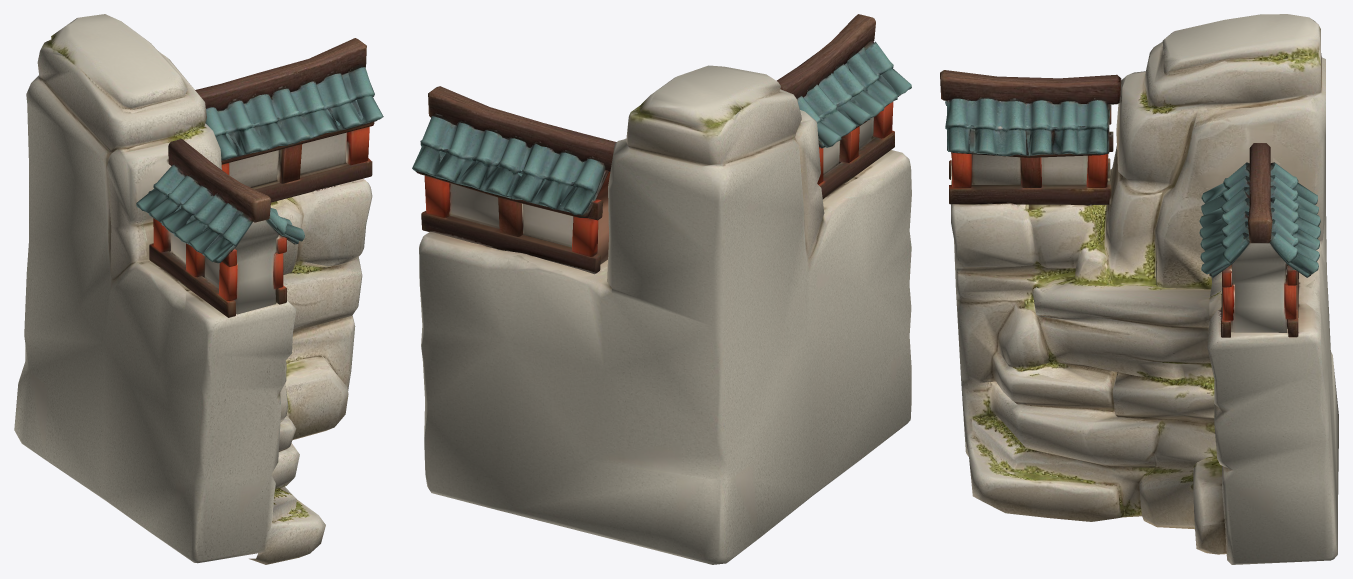
Rendered from tripo_convert_a72d3be8-dbac-452f-902d-80cfa4f93205.fbx.
3 views of the same model, side by side, from view 1: azimuth 30°, elevation 25°; view 2: azimuth 150°, elevation 25°; view 3: azimuth 270°, elevation 25° (orthographic). The views are drawn at different scales.
Parts seen in each view (by area): view 1: tripo_node_a72d3be8; view 2: tripo_node_a72d3be8; view 3: tripo_node_a72d3be8.
Boxes of the visible parts, x1,y1,x2,y2 form: tripo_node_a72d3be8: [14, 14, 383, 564]; tripo_node_a72d3be8: [412, 14, 911, 564]; tripo_node_a72d3be8: [940, 14, 1338, 564].
Bounding box in the file's own units: 0.7324 × 0.998 × 0.7871.
1 material, 1 textured.
